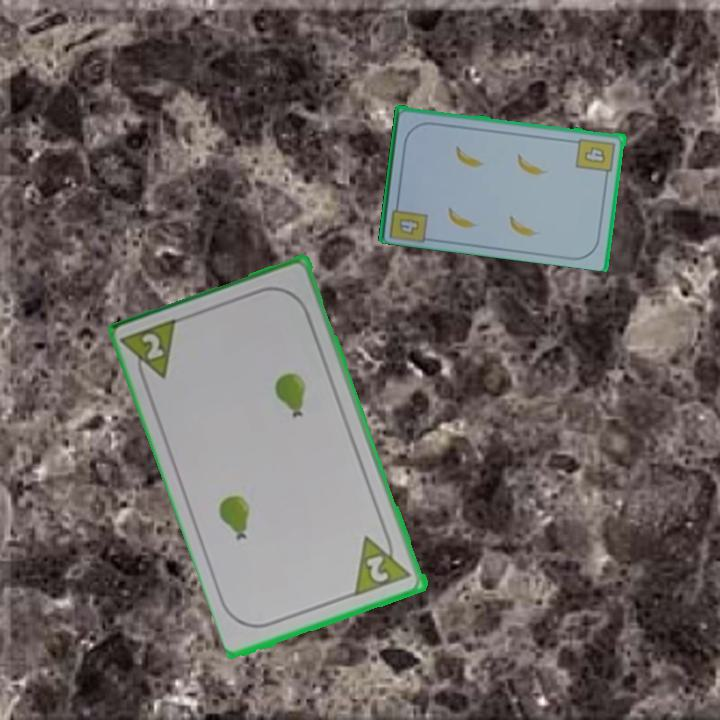2p: (120, 314, 183, 390), (351, 526, 416, 599)
4b: (386, 195, 431, 243), (573, 134, 619, 180)
